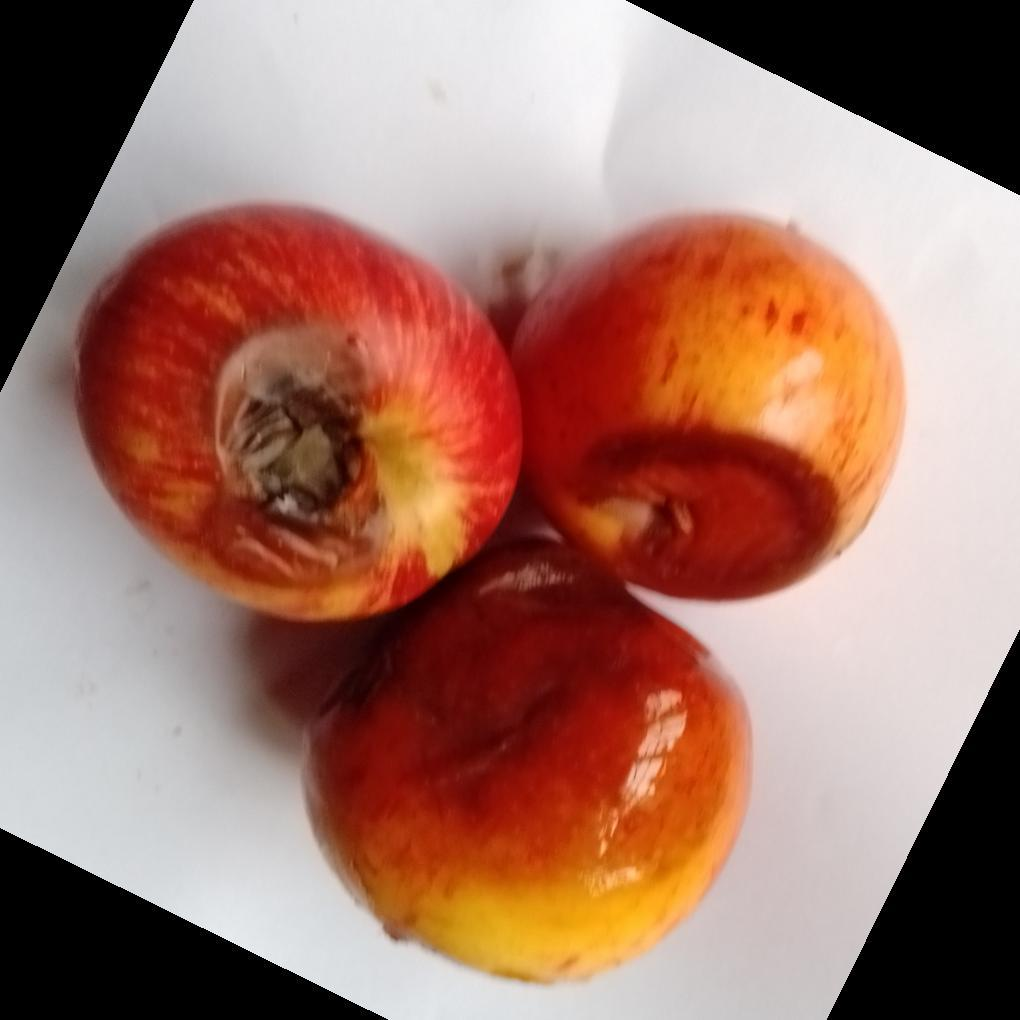FreshOrange: (75, 201, 898, 855)
